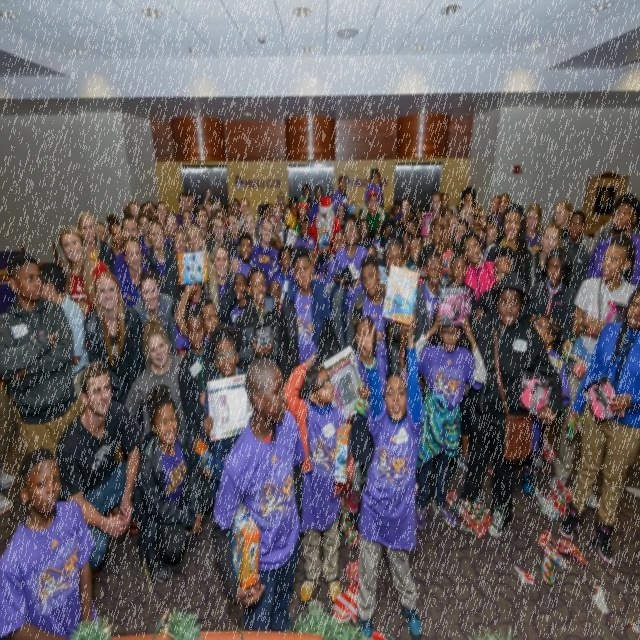pessoa: (447, 269, 566, 542), (205, 350, 309, 638), (548, 232, 640, 512), (354, 300, 427, 638), (402, 282, 490, 540), (560, 286, 640, 568), (54, 360, 143, 582), (0, 449, 98, 639), (282, 345, 347, 606), (131, 389, 213, 589), (82, 268, 148, 437), (474, 254, 515, 479), (203, 334, 254, 504), (203, 188, 424, 226), (346, 313, 387, 517), (278, 243, 334, 385), (346, 252, 402, 388), (124, 319, 189, 436), (36, 259, 90, 398), (526, 246, 578, 359), (530, 312, 571, 454), (176, 304, 220, 434), (172, 248, 224, 354), (586, 192, 640, 290), (233, 266, 280, 376), (481, 202, 535, 294), (58, 222, 110, 316), (330, 216, 370, 330), (409, 247, 449, 352), (132, 268, 177, 358), (170, 263, 209, 356), (232, 215, 274, 298), (184, 223, 222, 314), (202, 240, 242, 324), (457, 229, 497, 304), (143, 218, 179, 298), (114, 234, 152, 309), (442, 250, 478, 328), (558, 210, 591, 294), (114, 204, 150, 278), (248, 218, 282, 288), (76, 209, 112, 275), (423, 214, 455, 288), (356, 187, 393, 246), (377, 233, 411, 297), (310, 194, 342, 258), (0, 388, 15, 522), (534, 221, 564, 284), (364, 225, 419, 258), (231, 230, 255, 292), (104, 212, 127, 275), (227, 270, 250, 332), (206, 214, 233, 260), (194, 203, 217, 254), (270, 243, 296, 288), (136, 206, 154, 268), (207, 214, 233, 256), (330, 174, 356, 214), (372, 218, 395, 262), (280, 193, 299, 244), (524, 202, 545, 248), (162, 208, 184, 251), (552, 198, 574, 240), (224, 212, 244, 258), (306, 183, 325, 228), (408, 234, 427, 279), (175, 190, 198, 227), (452, 216, 472, 256), (293, 194, 312, 234), (364, 166, 383, 206), (268, 204, 286, 246), (122, 194, 158, 214), (153, 200, 170, 238), (328, 229, 347, 263), (267, 278, 284, 316), (481, 218, 500, 250), (255, 202, 270, 242), (355, 216, 372, 250), (493, 192, 512, 222), (96, 220, 111, 256), (171, 225, 189, 255), (237, 194, 250, 234), (439, 207, 458, 234), (428, 188, 443, 220), (486, 194, 502, 224), (460, 203, 474, 233), (459, 183, 476, 207), (334, 202, 348, 230), (179, 208, 193, 232), (439, 191, 451, 219), (302, 183, 314, 208), (597, 191, 611, 212), (202, 200, 215, 222), (308, 248, 317, 268), (473, 200, 480, 218)
